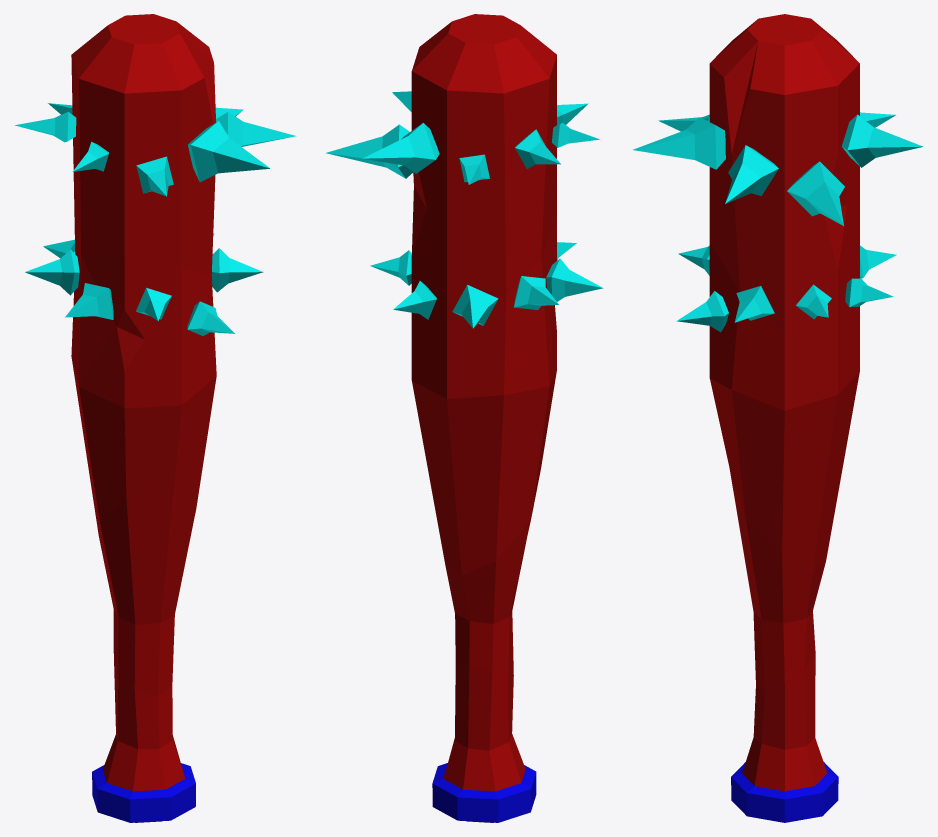
The model's file is Mace_Common_ClubSpiked.fbx.
3 renders of one model, left to right at view 1: azimuth 30°, elevation 25°; view 2: azimuth 150°, elevation 25°; view 3: azimuth 270°, elevation 25°, orthographic.
Visible parts, largest first — view 1: SM_Wep_Mace_03; view 2: SM_Wep_Mace_03; view 3: SM_Wep_Mace_03.
Part boxes in pixels (x1,y1,x2,y2): SM_Wep_Mace_03: [15, 14, 296, 822]; SM_Wep_Mace_03: [326, 14, 603, 822]; SM_Wep_Mace_03: [633, 14, 922, 822].
Size of the model in its own units: 24.44 by 79.17 by 26.53.
